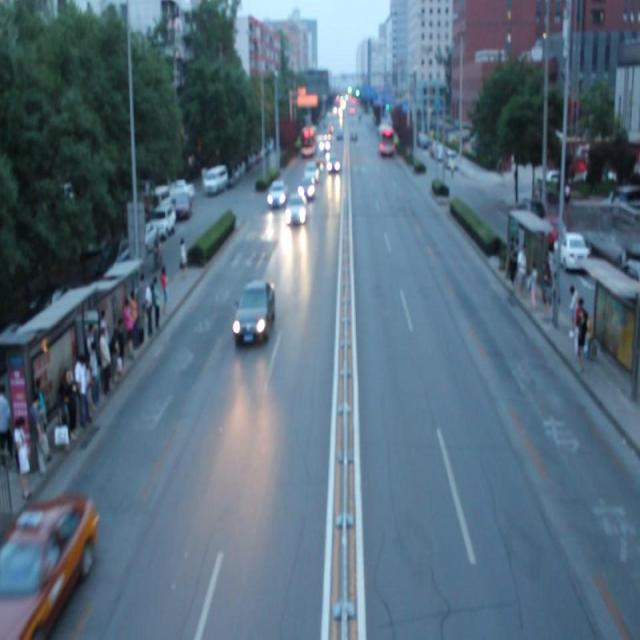car: (0, 496, 100, 640), (234, 277, 274, 345), (285, 194, 306, 226), (267, 181, 286, 207), (297, 178, 314, 201), (303, 162, 318, 183), (324, 154, 340, 173)
